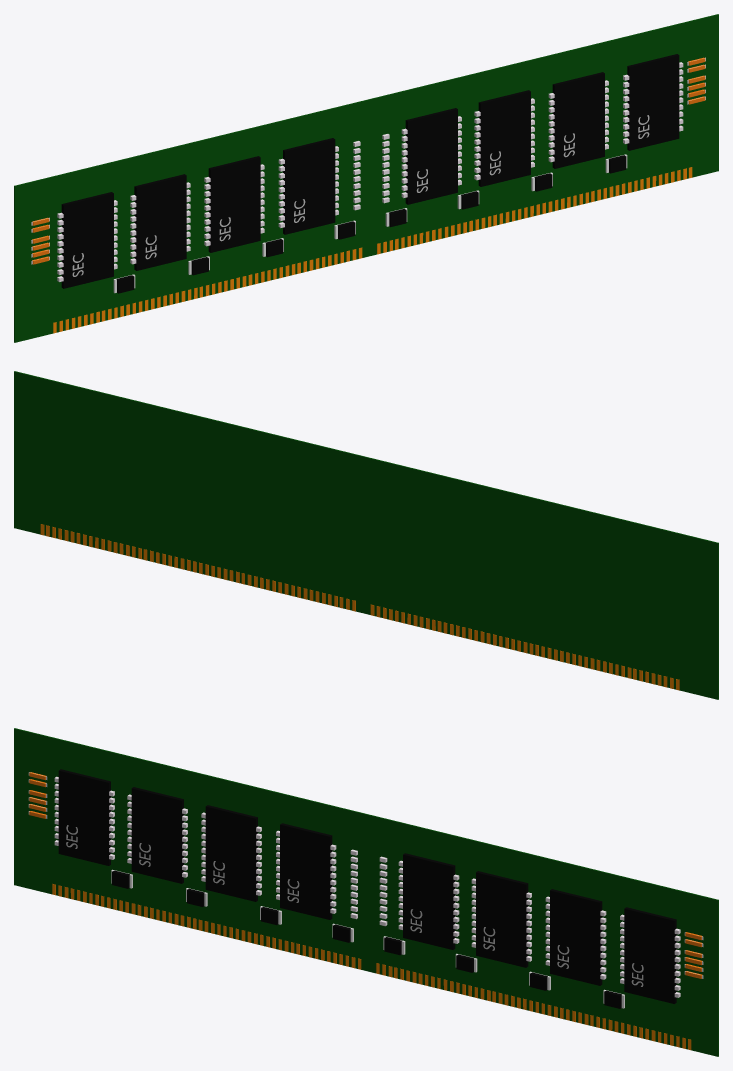
File: Ram.obj
The picture shows the model from 3 angles, top to bottom: view 1: azimuth 30°, elevation 25°; view 2: azimuth 150°, elevation 25°; view 3: azimuth 330°, elevation 25°; orthographic projection.
Visible parts, largest first — view 1: Cube.204_Cube.232, Cube.1209_Cube.1402, Cube.1205_Cube.1398, Cube.1108_Cube.1318, Cube.1279_Cube.1472, Cube.1198_Cube.1391, Cube.1119_Cube.054, Cube.1112_Cube.047, Cube.003; view 2: Cube.204_Cube.232; view 3: Cube.204_Cube.232, Cube.1279_Cube.1472, Cube.1205_Cube.1398, Cube.1198_Cube.1391, Cube.1108_Cube.1318, Cube.1119_Cube.054, Cube.1209_Cube.1402, Cube.1112_Cube.047, Cube.003.
Boxes of the visible parts, box(x1,y1,x2,y2) form: Cube.204_Cube.232: box(14, 14, 718, 342); Cube.1209_Cube.1402: box(283, 138, 335, 234); Cube.1205_Cube.1398: box(134, 174, 186, 270); Cube.1108_Cube.1318: box(627, 54, 679, 150); Cube.1279_Cube.1472: box(208, 156, 260, 252); Cube.1198_Cube.1391: box(61, 192, 113, 288); Cube.1119_Cube.054: box(405, 108, 457, 204); Cube.1112_Cube.047: box(478, 90, 530, 186); Cube.003: box(552, 72, 604, 168); Cube.204_Cube.232: box(14, 371, 718, 699); Cube.204_Cube.232: box(14, 728, 718, 1056); Cube.1279_Cube.1472: box(205, 805, 257, 901); Cube.1205_Cube.1398: box(131, 787, 183, 883); Cube.1198_Cube.1391: box(58, 769, 110, 865); Cube.1108_Cube.1318: box(624, 907, 676, 1003); Cube.1119_Cube.054: box(403, 853, 455, 949); Cube.1209_Cube.1402: box(280, 823, 332, 919); Cube.1112_Cube.047: box(476, 871, 528, 967); Cube.003: box(550, 889, 602, 985).
Bounding box in the file's own units: 6.76 × 1.44 × 0.0635.
